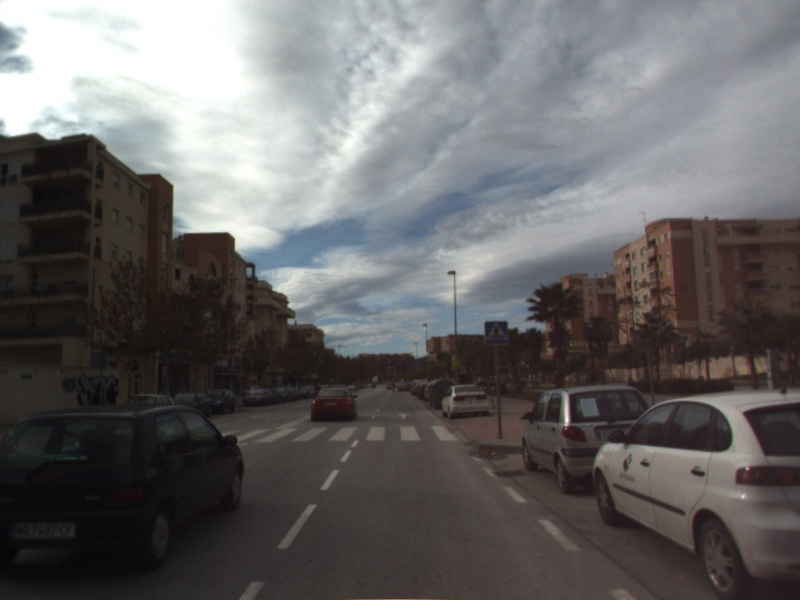STRAIGHT: (395, 410, 412, 421)
